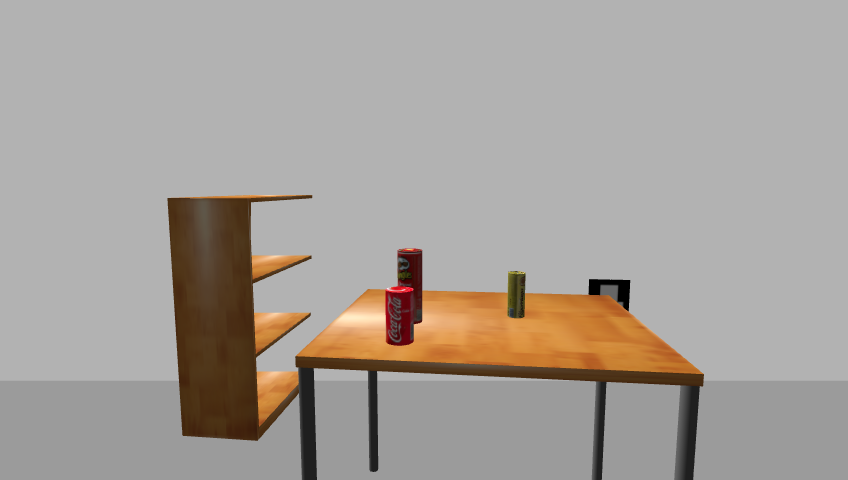aruco marker: (585, 277, 634, 316)
biscuits pack: (507, 271, 527, 320)
bookshelf: (163, 193, 319, 442)
coke can: (384, 287, 417, 347)
dinner table: (290, 289, 712, 479)
pringles can: (395, 247, 423, 326)
